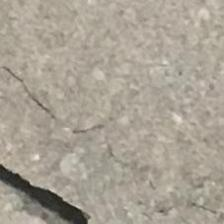Crack: (0, 130, 138, 224)
